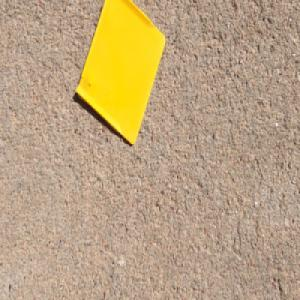PlasticPart: (75, 0, 168, 145)
